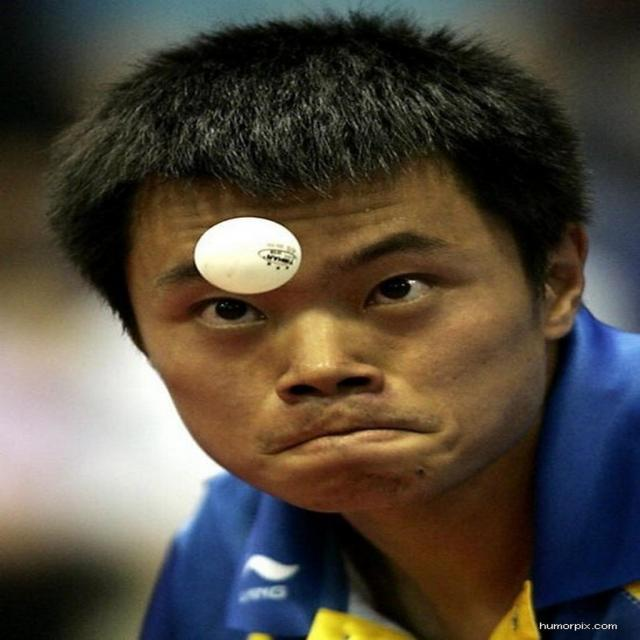nomask: (123, 161, 546, 510)
